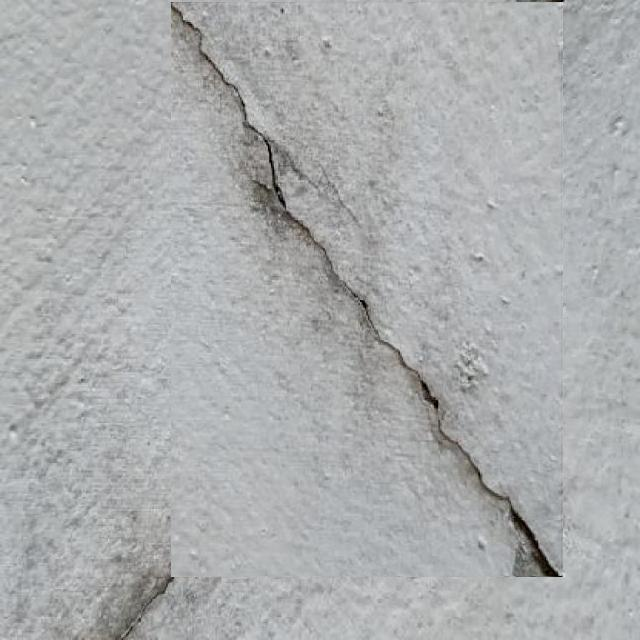Crack: (167, 0, 561, 578)
